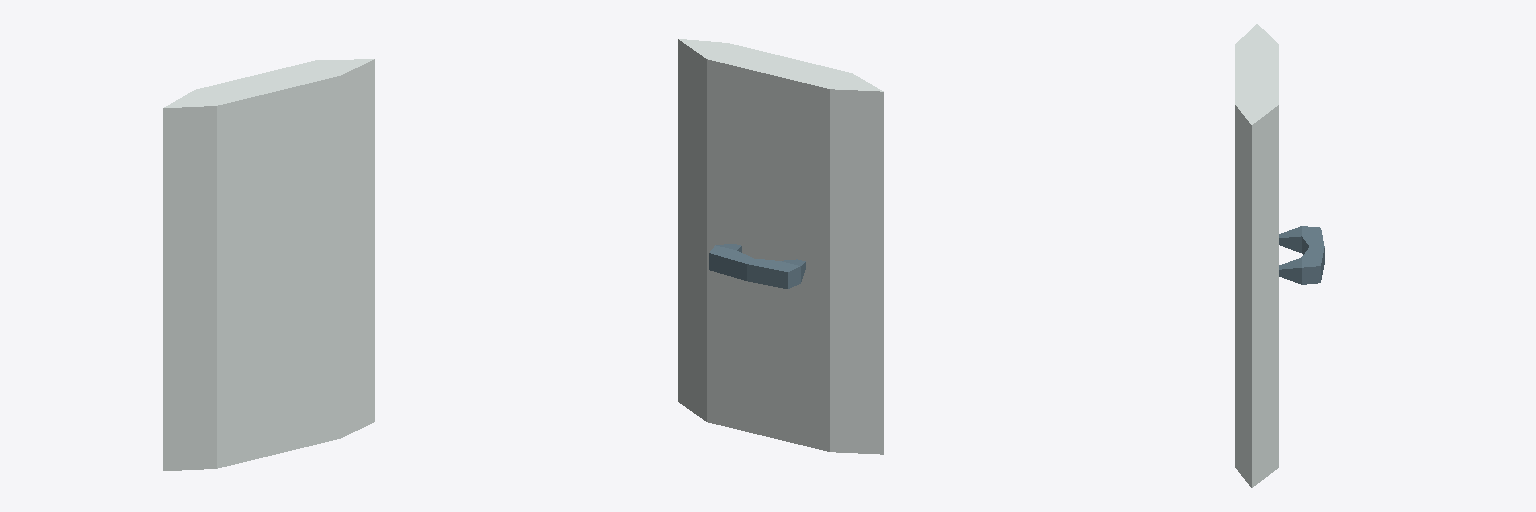
3 renders of one model, left to right at view 1: azimuth 30°, elevation 25°; view 2: azimuth 150°, elevation 25°; view 3: azimuth 270°, elevation 25°, orthographic.
Parts seen in each view (by area): view 1: group[number redacted]; view 2: group[number redacted], group[number redacted]; view 3: group[number redacted], group[number redacted].
Boxes of the visible parts, x1=… form: group[number redacted]: x1=163, y1=59, x2=374, y2=470; group[number redacted]: x1=678, y1=39, x2=883, y2=454; group[number redacted]: x1=709, y1=244, x2=805, y2=288; group[number redacted]: x1=1235, y1=24, x2=1278, y2=487; group[number redacted]: x1=1279, y1=226, x2=1324, y2=284.
Size of the model in its own units: 0.44 by 0.73 by 0.1631.